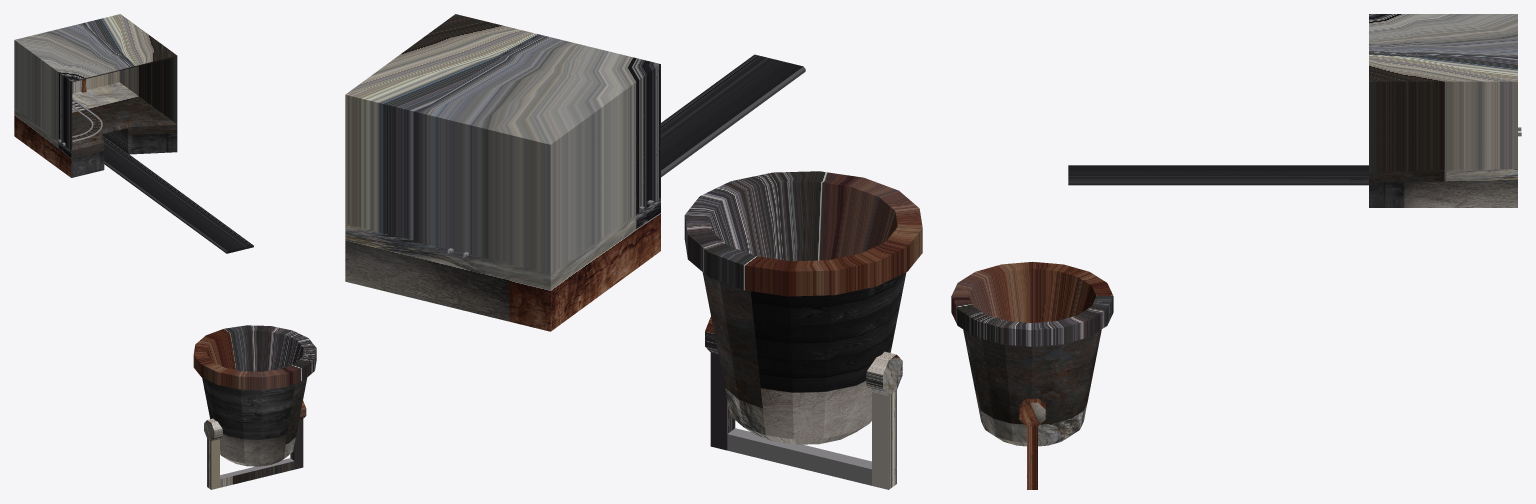
Rendered from Factory_1.fbx.
3 views of the same model, side by side, from view 1: azimuth 30°, elevation 25°; view 2: azimuth 150°, elevation 25°; view 3: azimuth 270°, elevation 25° (orthographic). The views are drawn at different scales.
Visible parts, largest first — view 1: Cube.041; view 2: Cube.041; view 3: Cube.041.
Part boxes in pixels (x1,y1,x2,y2): Cube.041: (14,14,316,489); Cube.041: (345,14,922,489); Cube.041: (951,14,1521,489).
Bounding box in the file's own units: 10456 × 28355 × 35594.
